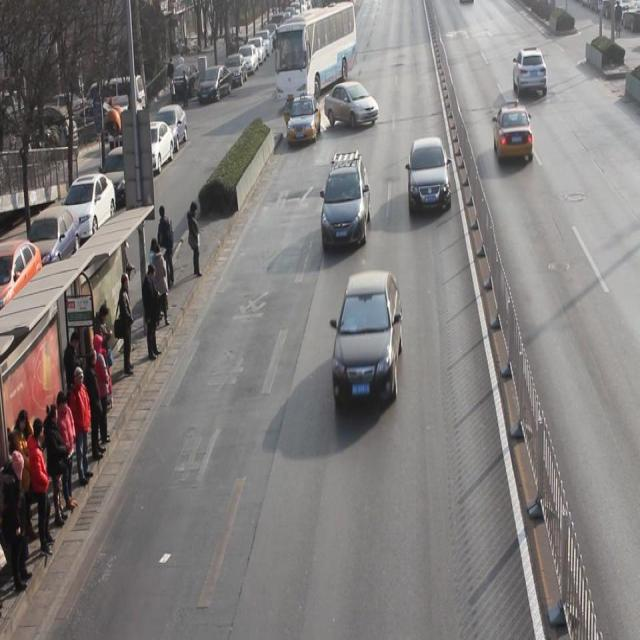car: (332, 272, 404, 408), (321, 157, 371, 251), (407, 137, 452, 217), (324, 80, 379, 130), (494, 104, 534, 165), (286, 96, 322, 146), (513, 48, 548, 98)
van: (276, 11, 355, 108)
